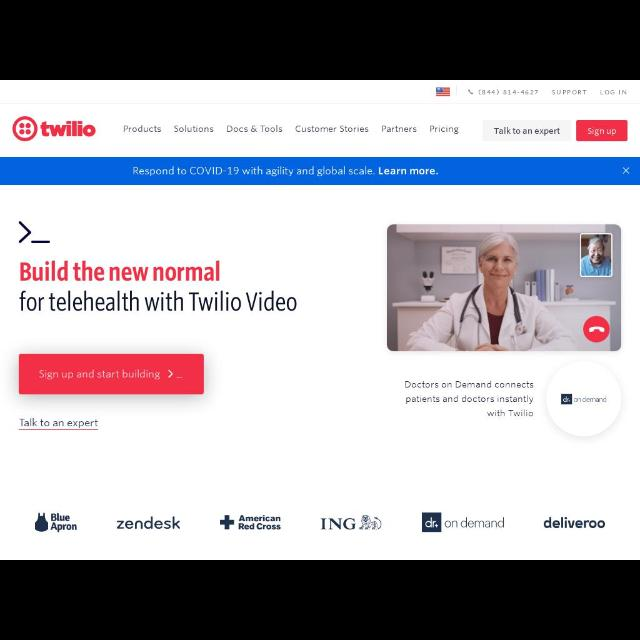icon: (468, 89, 472, 95)
iframe: (1, 159, 640, 183)
image: (388, 225, 620, 349), (13, 118, 95, 140), (422, 513, 504, 531), (220, 515, 280, 531), (321, 516, 381, 532), (35, 511, 77, 533), (115, 518, 178, 532), (545, 518, 605, 530), (437, 88, 451, 96)
text: (19, 290, 299, 312), (402, 381, 534, 419), (19, 262, 222, 284), (20, 418, 100, 428), (494, 127, 560, 137), (296, 125, 368, 134), (227, 126, 283, 134), (478, 89, 538, 95), (174, 126, 214, 132), (430, 126, 460, 134), (124, 126, 160, 132), (552, 90, 588, 96), (382, 126, 416, 132), (601, 90, 627, 94)
textbutton: (19, 354, 204, 394), (578, 120, 628, 142)
toolbar: (2, 115, 640, 151)
